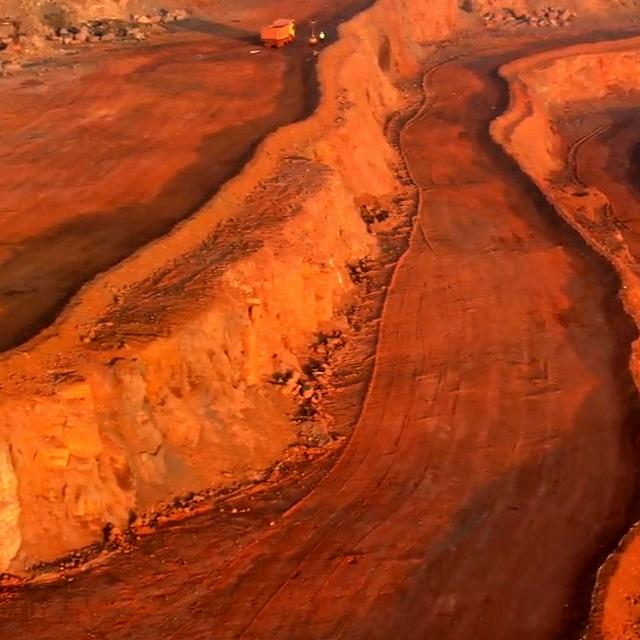Dumper truck: (263, 19, 296, 44)
Excavator: (0, 19, 24, 54)
